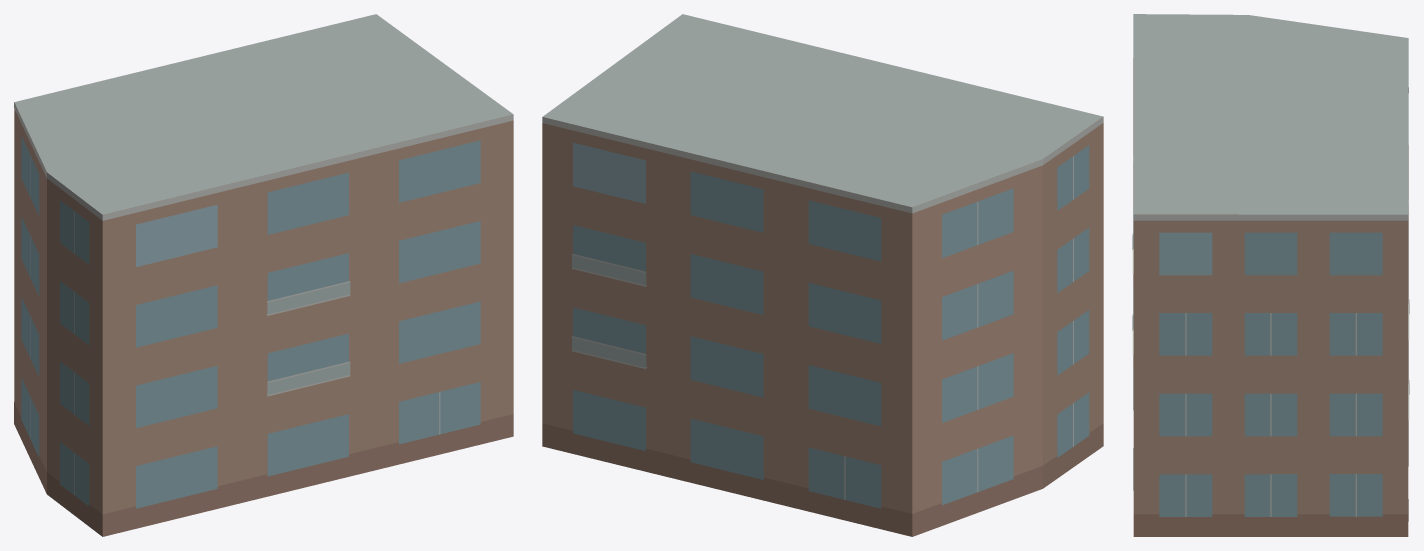
The model's file is survey-upis-32816808.glb.
3 renders of one model, left to right at view 1: azimuth 30°, elevation 25°; view 2: azimuth 150°, elevation 25°; view 3: azimuth 270°, elevation 25°, orthographic. The views are drawn at different scales.
Parts seen in each view (by area): view 1: survey-upis-32816808.tmp; view 2: survey-upis-32816808.tmp; view 3: survey-upis-32816808.tmp.
Part boxes in pixels (bbox=[...]): survey-upis-32816808.tmp: bbox=[14, 14, 513, 536]; survey-upis-32816808.tmp: bbox=[542, 14, 1103, 536]; survey-upis-32816808.tmp: bbox=[1132, 14, 1409, 536].
Bounding box in the file's own units: 17.52 × 13.1 × 10.21.
